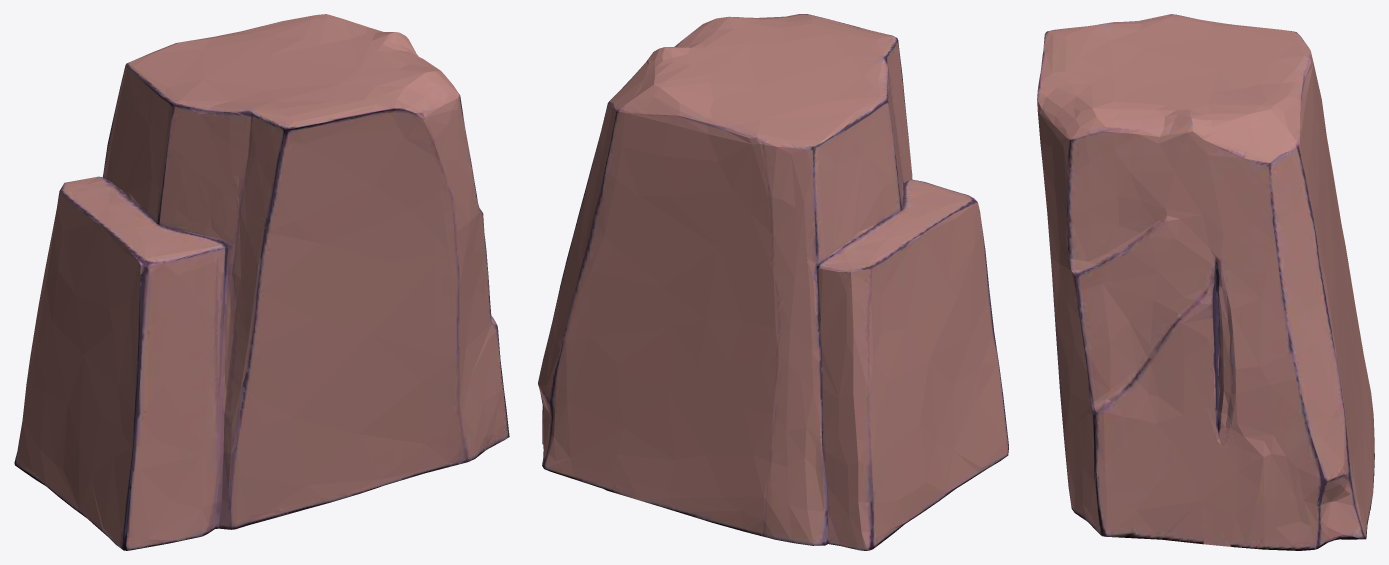
Rendered from faraglione.glb.
3 views of the same model, side by side, from view 1: azimuth 30°, elevation 25°; view 2: azimuth 150°, elevation 25°; view 3: azimuth 270°, elevation 25° (orthographic). The views are drawn at different scales.
Parts seen in each view (by area): view 1: geometry_0; view 2: geometry_0; view 3: geometry_0.
Boxes of the visible parts, x1=… form: geometry_0: x1=14, y1=14, x2=509, y2=550; geometry_0: x1=538, y1=14, x2=1008, y2=550; geometry_0: x1=1037, y1=14, x2=1374, y2=550.
Bounding box in the file's own units: 5 × 5 × 3.68.
Materials: 1 (1 with a texture image).
